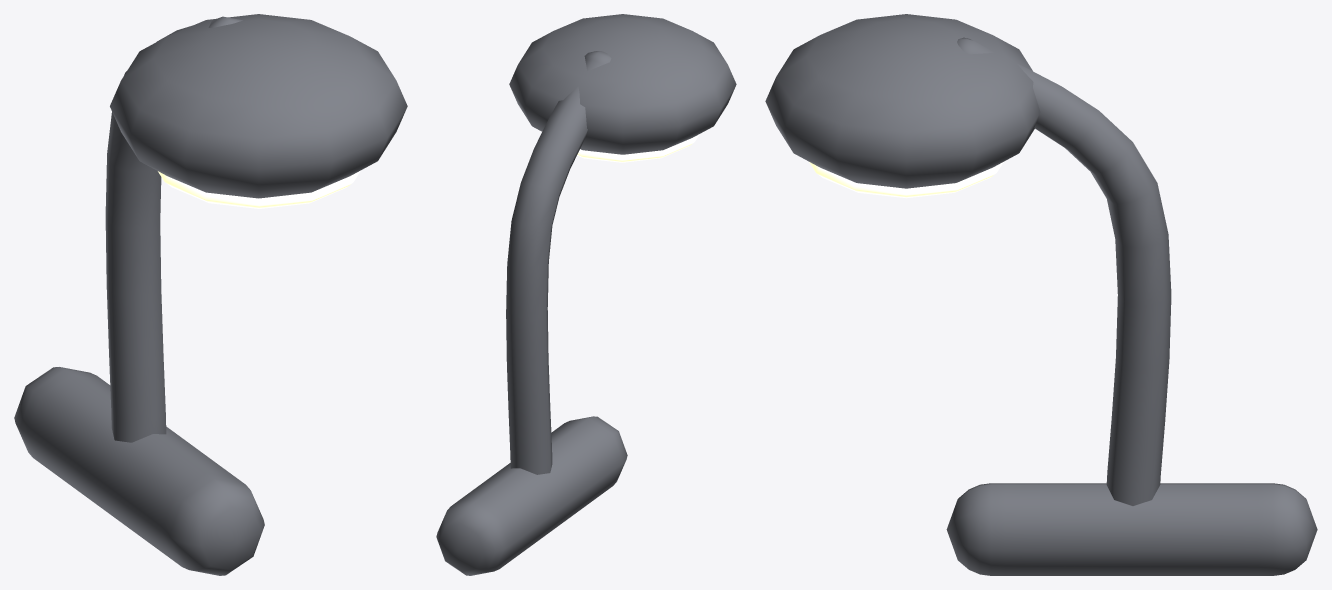
Rendered from reptiles-amphibians-and-minibeasts-heat-lamp-on-clip-d92b0154__22466.glb.
3 renders of one model, left to right at view 1: azimuth 30°, elevation 25°; view 2: azimuth 150°, elevation 25°; view 3: azimuth 270°, elevation 25°, orthographic. The views are drawn at different scales.
Visible parts, largest first — view 1: heat-lamp-on-clip; view 2: heat-lamp-on-clip; view 3: heat-lamp-on-clip.
Part boxes in pixels (left/top/right/bottom): heat-lamp-on-clip: left=14, top=14, right=407, bottom=575; heat-lamp-on-clip: left=436, top=14, right=736, bottom=575; heat-lamp-on-clip: left=765, top=14, right=1317, bottom=575.
Size of the model in its own units: 0.1532 by 0.3218 by 0.3.
